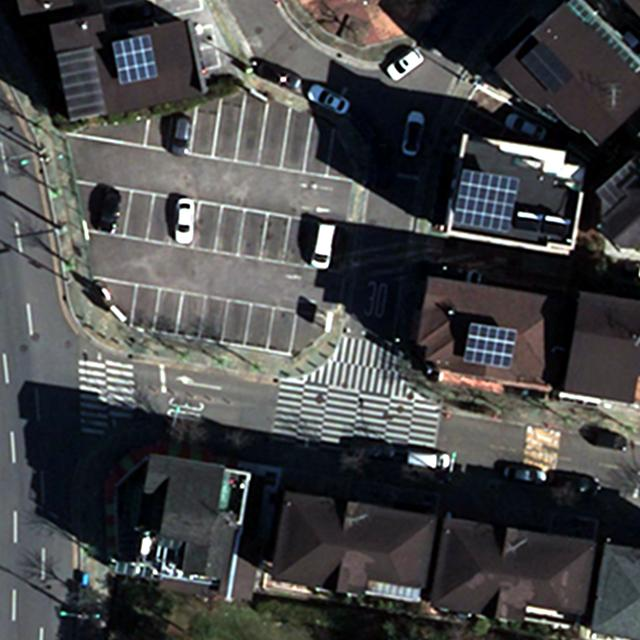panel: (450, 167, 520, 237), (519, 42, 577, 96), (461, 320, 521, 368), (110, 33, 161, 86)
